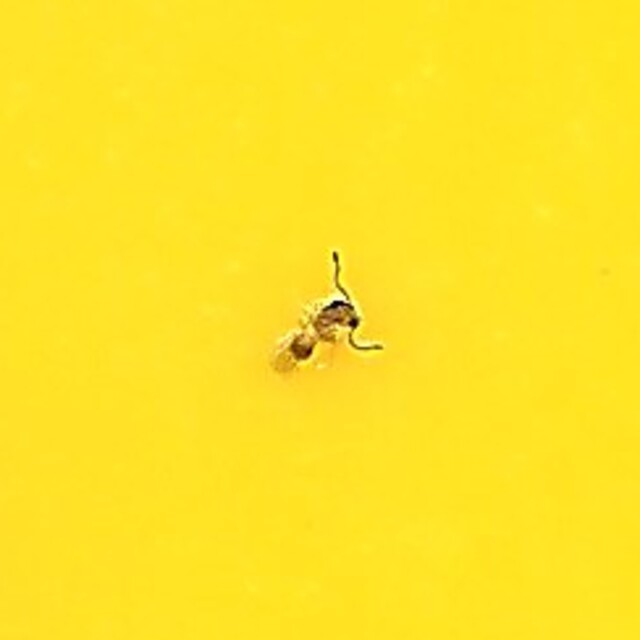Hymenoptera: (262, 257, 378, 383)
